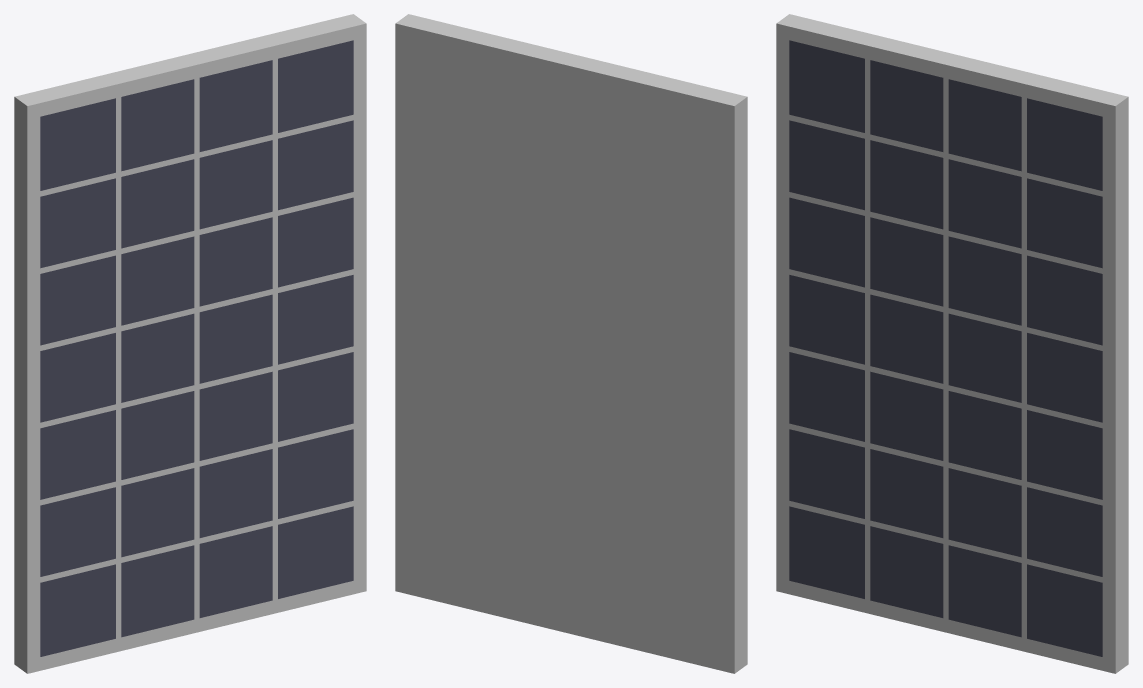
The model's file is SolarPanel_01.fbx.
3 views of the same model, side by side, from view 1: azimuth 30°, elevation 25°; view 2: azimuth 150°, elevation 25°; view 3: azimuth 330°, elevation 25° (orthographic).
Parts seen in each view (by area): view 1: SolarPanel_01; view 2: SolarPanel_01; view 3: SolarPanel_01.
Part boxes in pixels (x1,y1,x2,y2): SolarPanel_01: [14, 14, 366, 673]; SolarPanel_01: [395, 14, 747, 673]; SolarPanel_01: [776, 14, 1128, 673].
Size of the model in its own units: 68.59 by 110 by 4.54.
